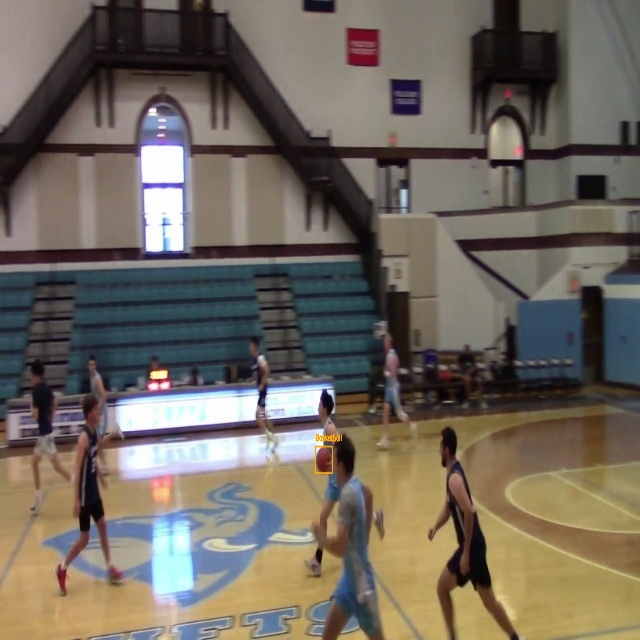Basketball: (316, 446, 332, 473)
